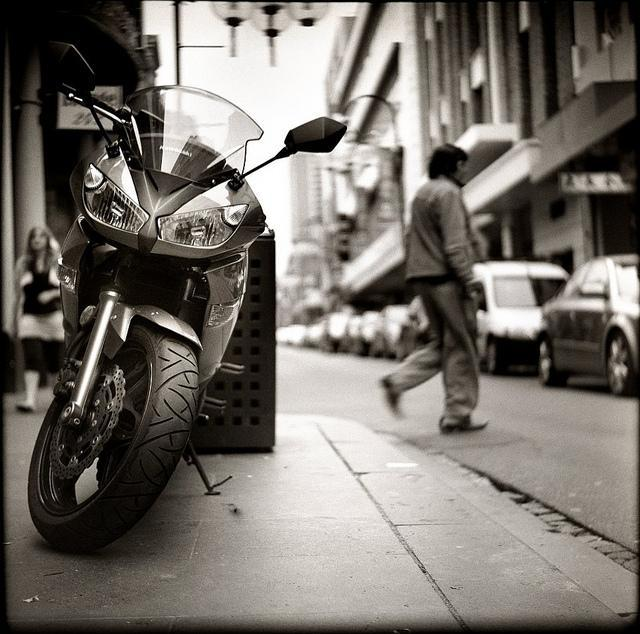car: (538, 256, 640, 396), (472, 260, 572, 375), (368, 305, 412, 356), (320, 312, 352, 352), (356, 312, 378, 357), (276, 324, 308, 346), (302, 318, 324, 347), (348, 315, 362, 354)
motorcycle: (26, 45, 344, 558)
